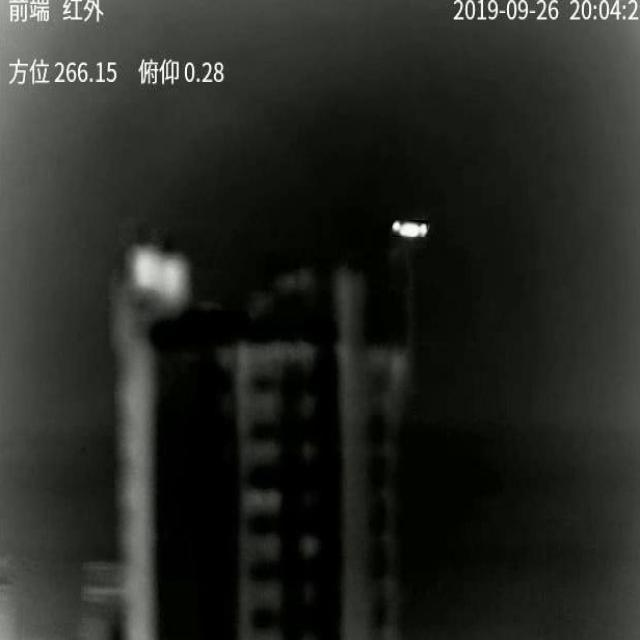drone: (392, 220, 428, 237)
